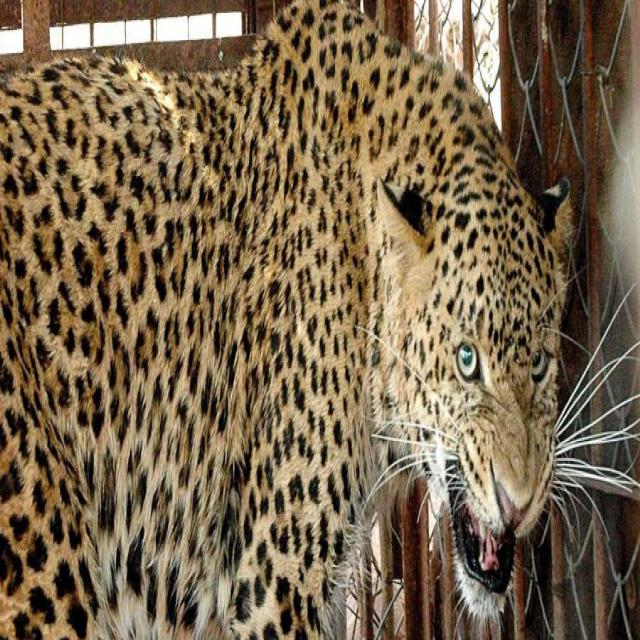Leopard: (1, 11, 567, 640)
